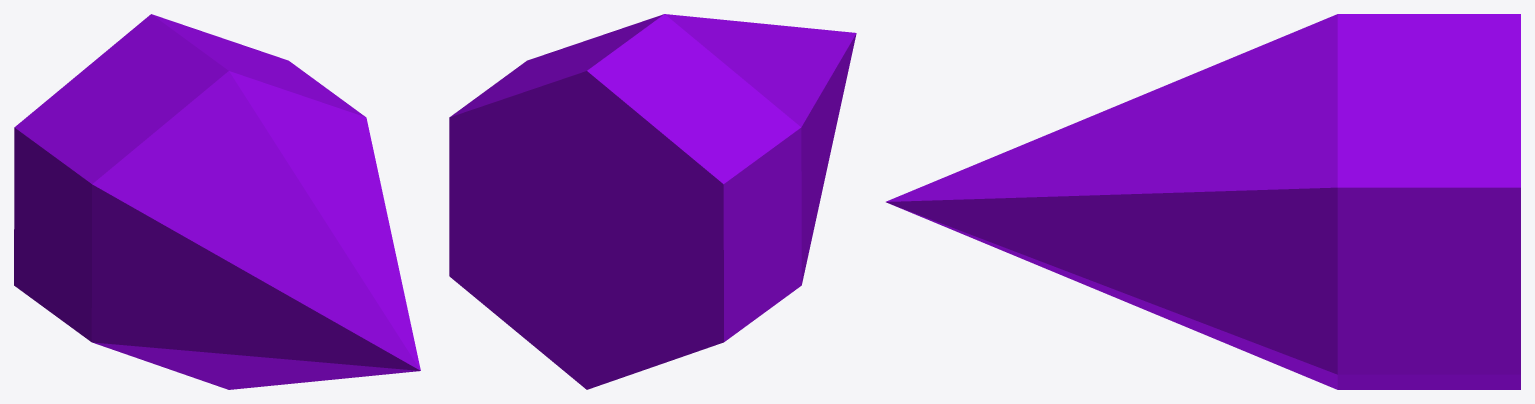
File: Crystal.fbx
3 views of the same model, side by side, from view 1: azimuth 30°, elevation 25°; view 2: azimuth 150°, elevation 25°; view 3: azimuth 270°, elevation 25° (orthographic). The views are drawn at different scales.
Visible parts, largest first — view 1: Icosphere; view 2: Icosphere; view 3: Icosphere.
Part boxes in pixels (x1=…): Icosphere: x1=14, y1=14, x2=420, y2=389; Icosphere: x1=449, y1=14, x2=856, y2=389; Icosphere: x1=886, y1=14, x2=1520, y2=389.
Bounding box in the file's own units: 180 × 200 × 306.
